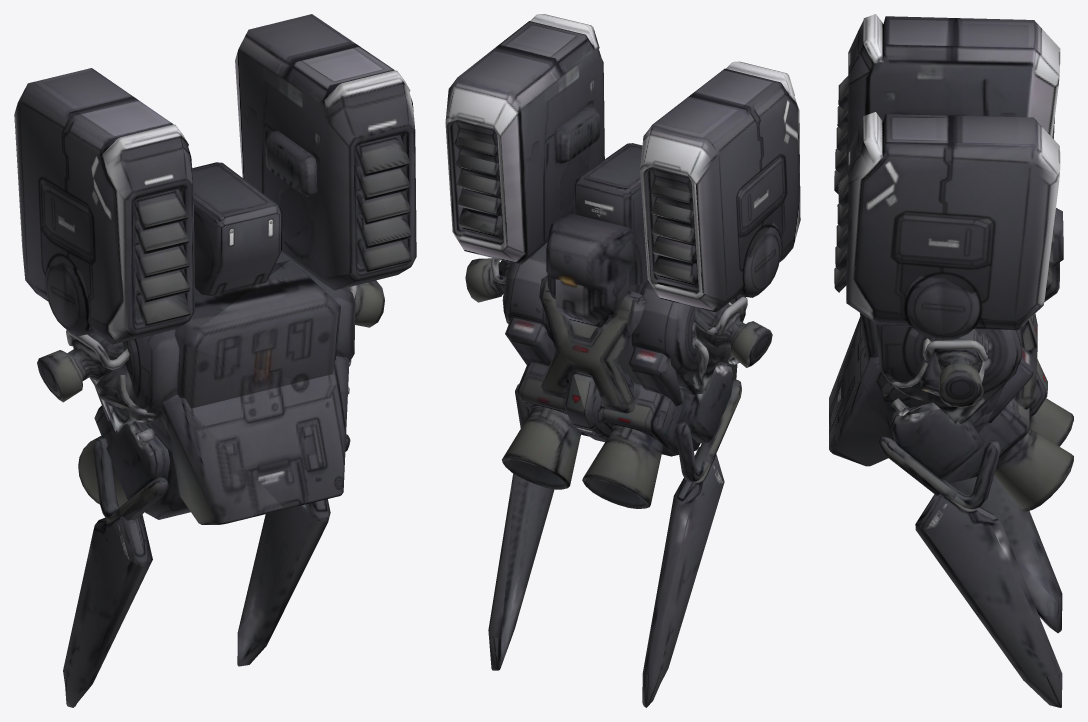
File: b_eff.glb
The picture shows the model from 3 angles, left to right: view 1: azimuth 30°, elevation 25°; view 2: azimuth 150°, elevation 25°; view 3: azimuth 270°, elevation 25°; orthographic projection. The views are drawn at different scales.
Visible parts, largest first — view 1: b_eff; view 2: b_eff; view 3: b_eff.
Boxes of the visible parts, x1,y1,x2,y2 form: b_eff: [14, 14, 416, 707]; b_eff: [445, 14, 800, 707]; b_eff: [829, 14, 1073, 707].
Bounding box in the file's own units: 2.77 × 5.25 × 1.96.
Materials: 1 (1 with a texture image).
